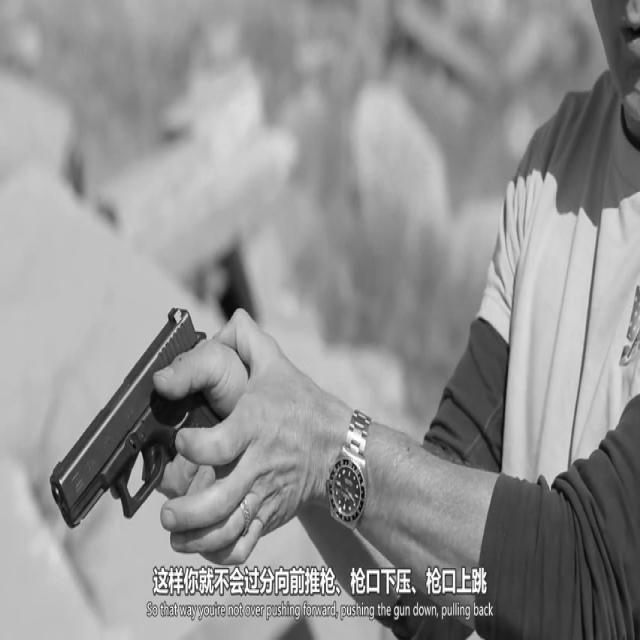Hand-Gun: (21, 204, 276, 591)
